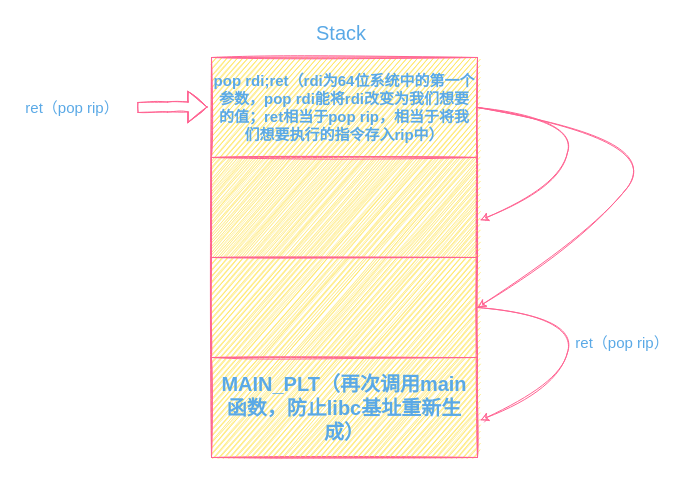
Image size: 694x483. Some labels were removed from this diagram. Each missing label, with the centre of its shape:
PUTS_GOT，为puts的got地址，这一条是将要进入rdi中的值，通过puts的got值可以获取puts的真实地址: (344,207)
PUTS_PLT，这一条应该是要执行的指令，因为此时RCS已经固定，所以我们应该将RIP设置为相对于该程序的偏移量，也就是PLT中的值（而不是真实地址）: (344,307)
